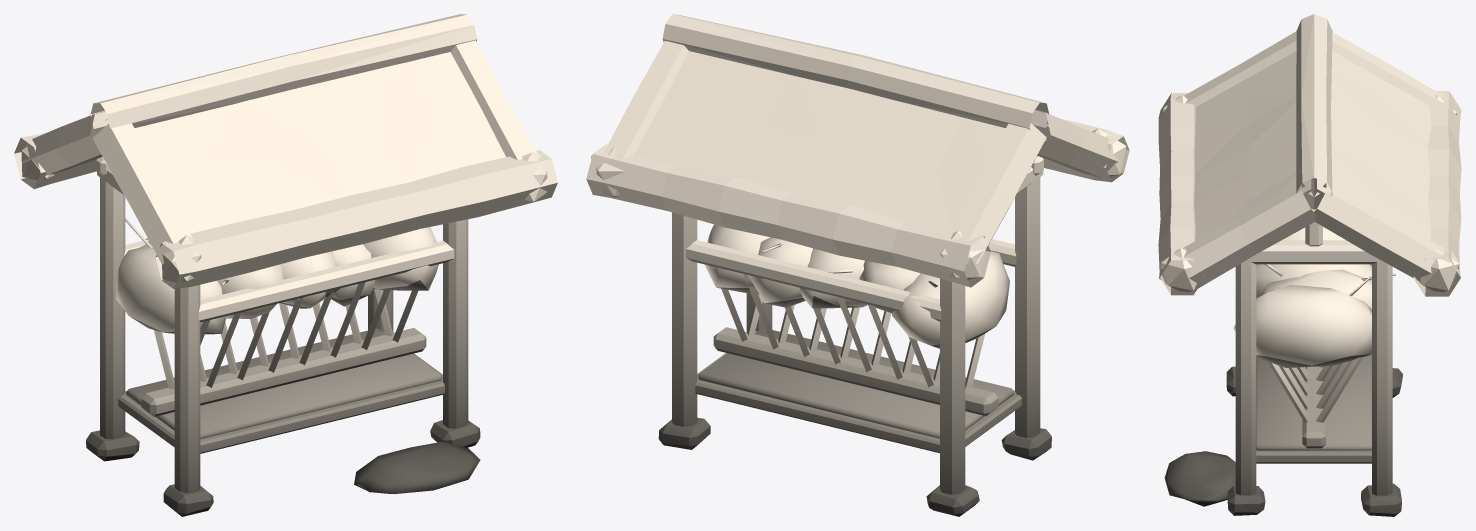
The model's file is SM_VK_Prop_HayRack.fbx.
3 views of the same model, side by side, from view 1: azimuth 30°, elevation 25°; view 2: azimuth 150°, elevation 25°; view 3: azimuth 270°, elevation 25° (orthographic). The views are drawn at different scales.
Visible parts, largest first — view 1: SM_VK_Prop_HayRack.001; view 2: SM_VK_Prop_HayRack.001; view 3: SM_VK_Prop_HayRack.001.
Part boxes in pixels (x1=…): SM_VK_Prop_HayRack.001: x1=14, y1=14, x2=557, y2=516; SM_VK_Prop_HayRack.001: x1=586, y1=14, x2=1129, y2=516; SM_VK_Prop_HayRack.001: x1=1158, y1=14, x2=1461, y2=516.
Size of the model in its own units: 2.76 by 2.7 by 2.05.
